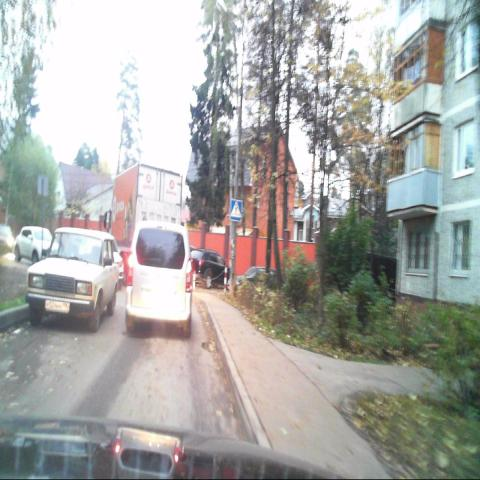5_19_1: (230, 200, 242, 222)
